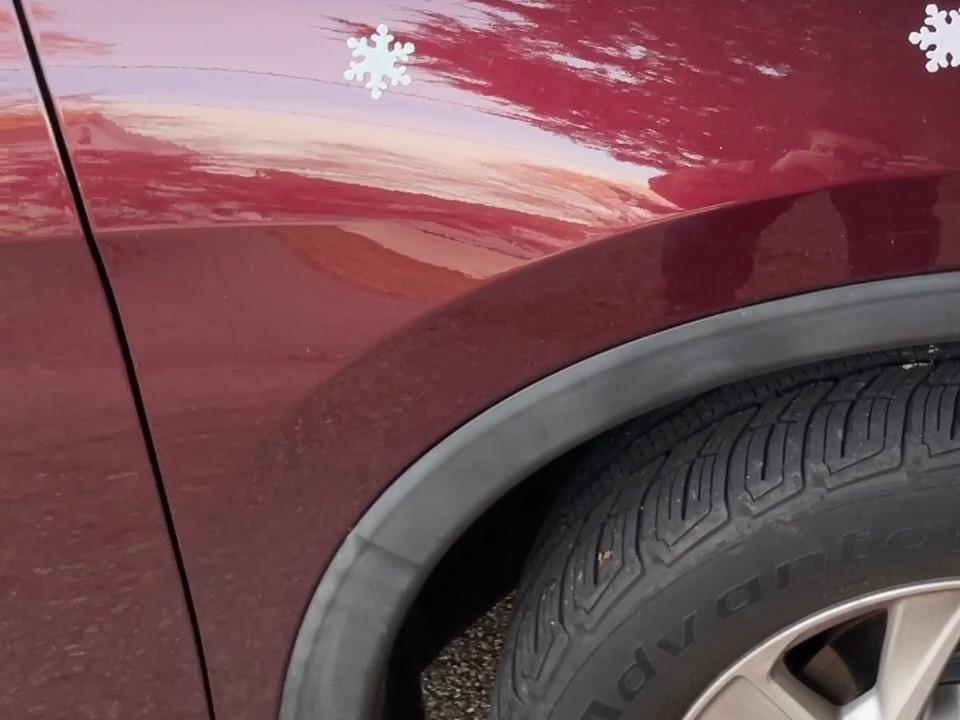dent: (335, 5, 430, 117), (904, 0, 960, 92)
